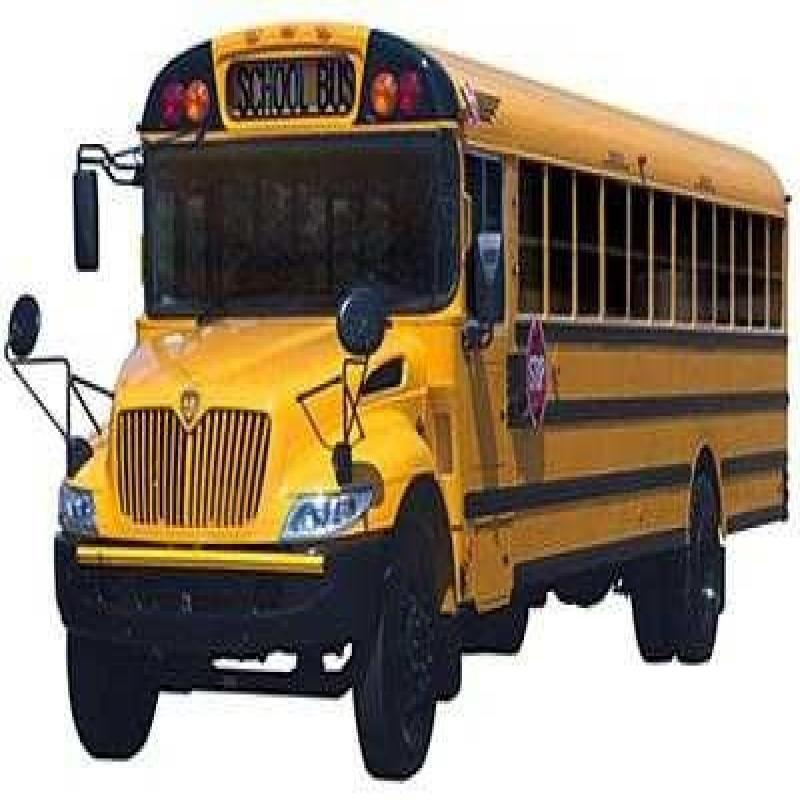bus: (38, 17, 800, 742)
